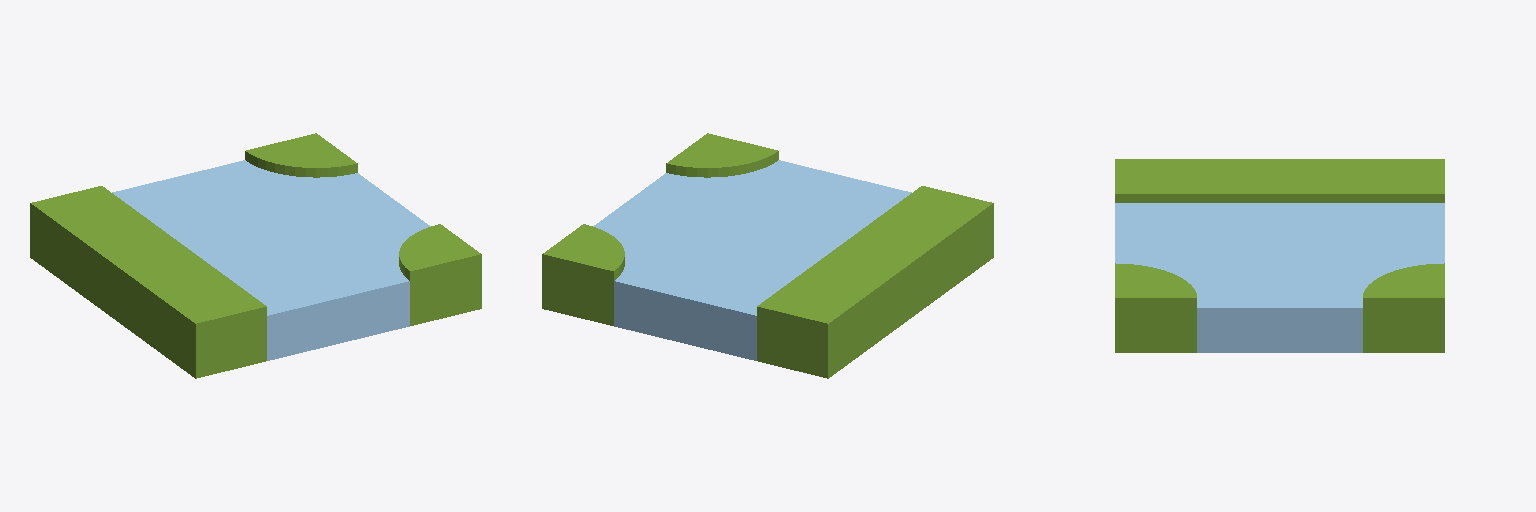
The picture shows the model from 3 angles: view 1: azimuth 30°, elevation 25°; view 2: azimuth 150°, elevation 25°; view 3: azimuth 270°, elevation 25°; orthographic projection.
Parts seen in each view (by area): view 1: roadTile_178.001; view 2: roadTile_178.001; view 3: roadTile_178.001.
Part boxes in pixels (x1,y1,x2,y2): roadTile_178.001: (30,133,481,378); roadTile_178.001: (542,133,993,378); roadTile_178.001: (1115,159,1444,352).
Size of the model in its own units: 3 by 0.55 by 3.